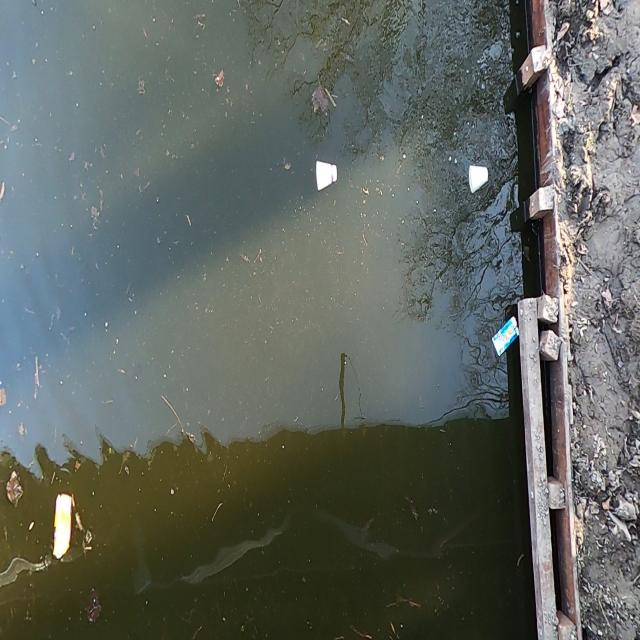Non plastique: (48, 486, 77, 568), (488, 317, 521, 360), (314, 159, 346, 192), (467, 160, 490, 199)
